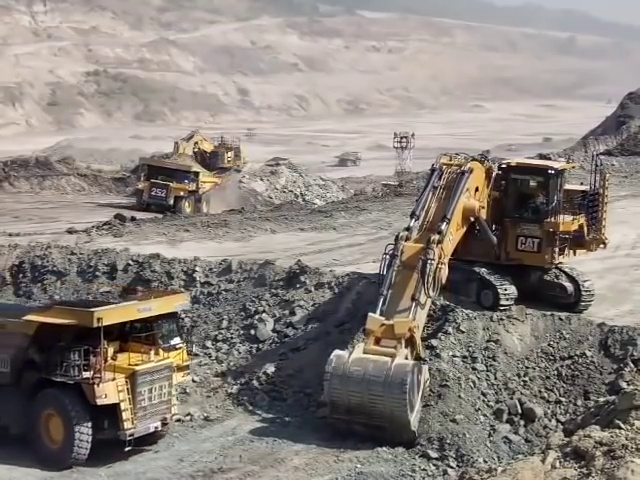dumper: (3, 286, 190, 470), (130, 157, 204, 213)
excavator: (318, 145, 610, 438)
